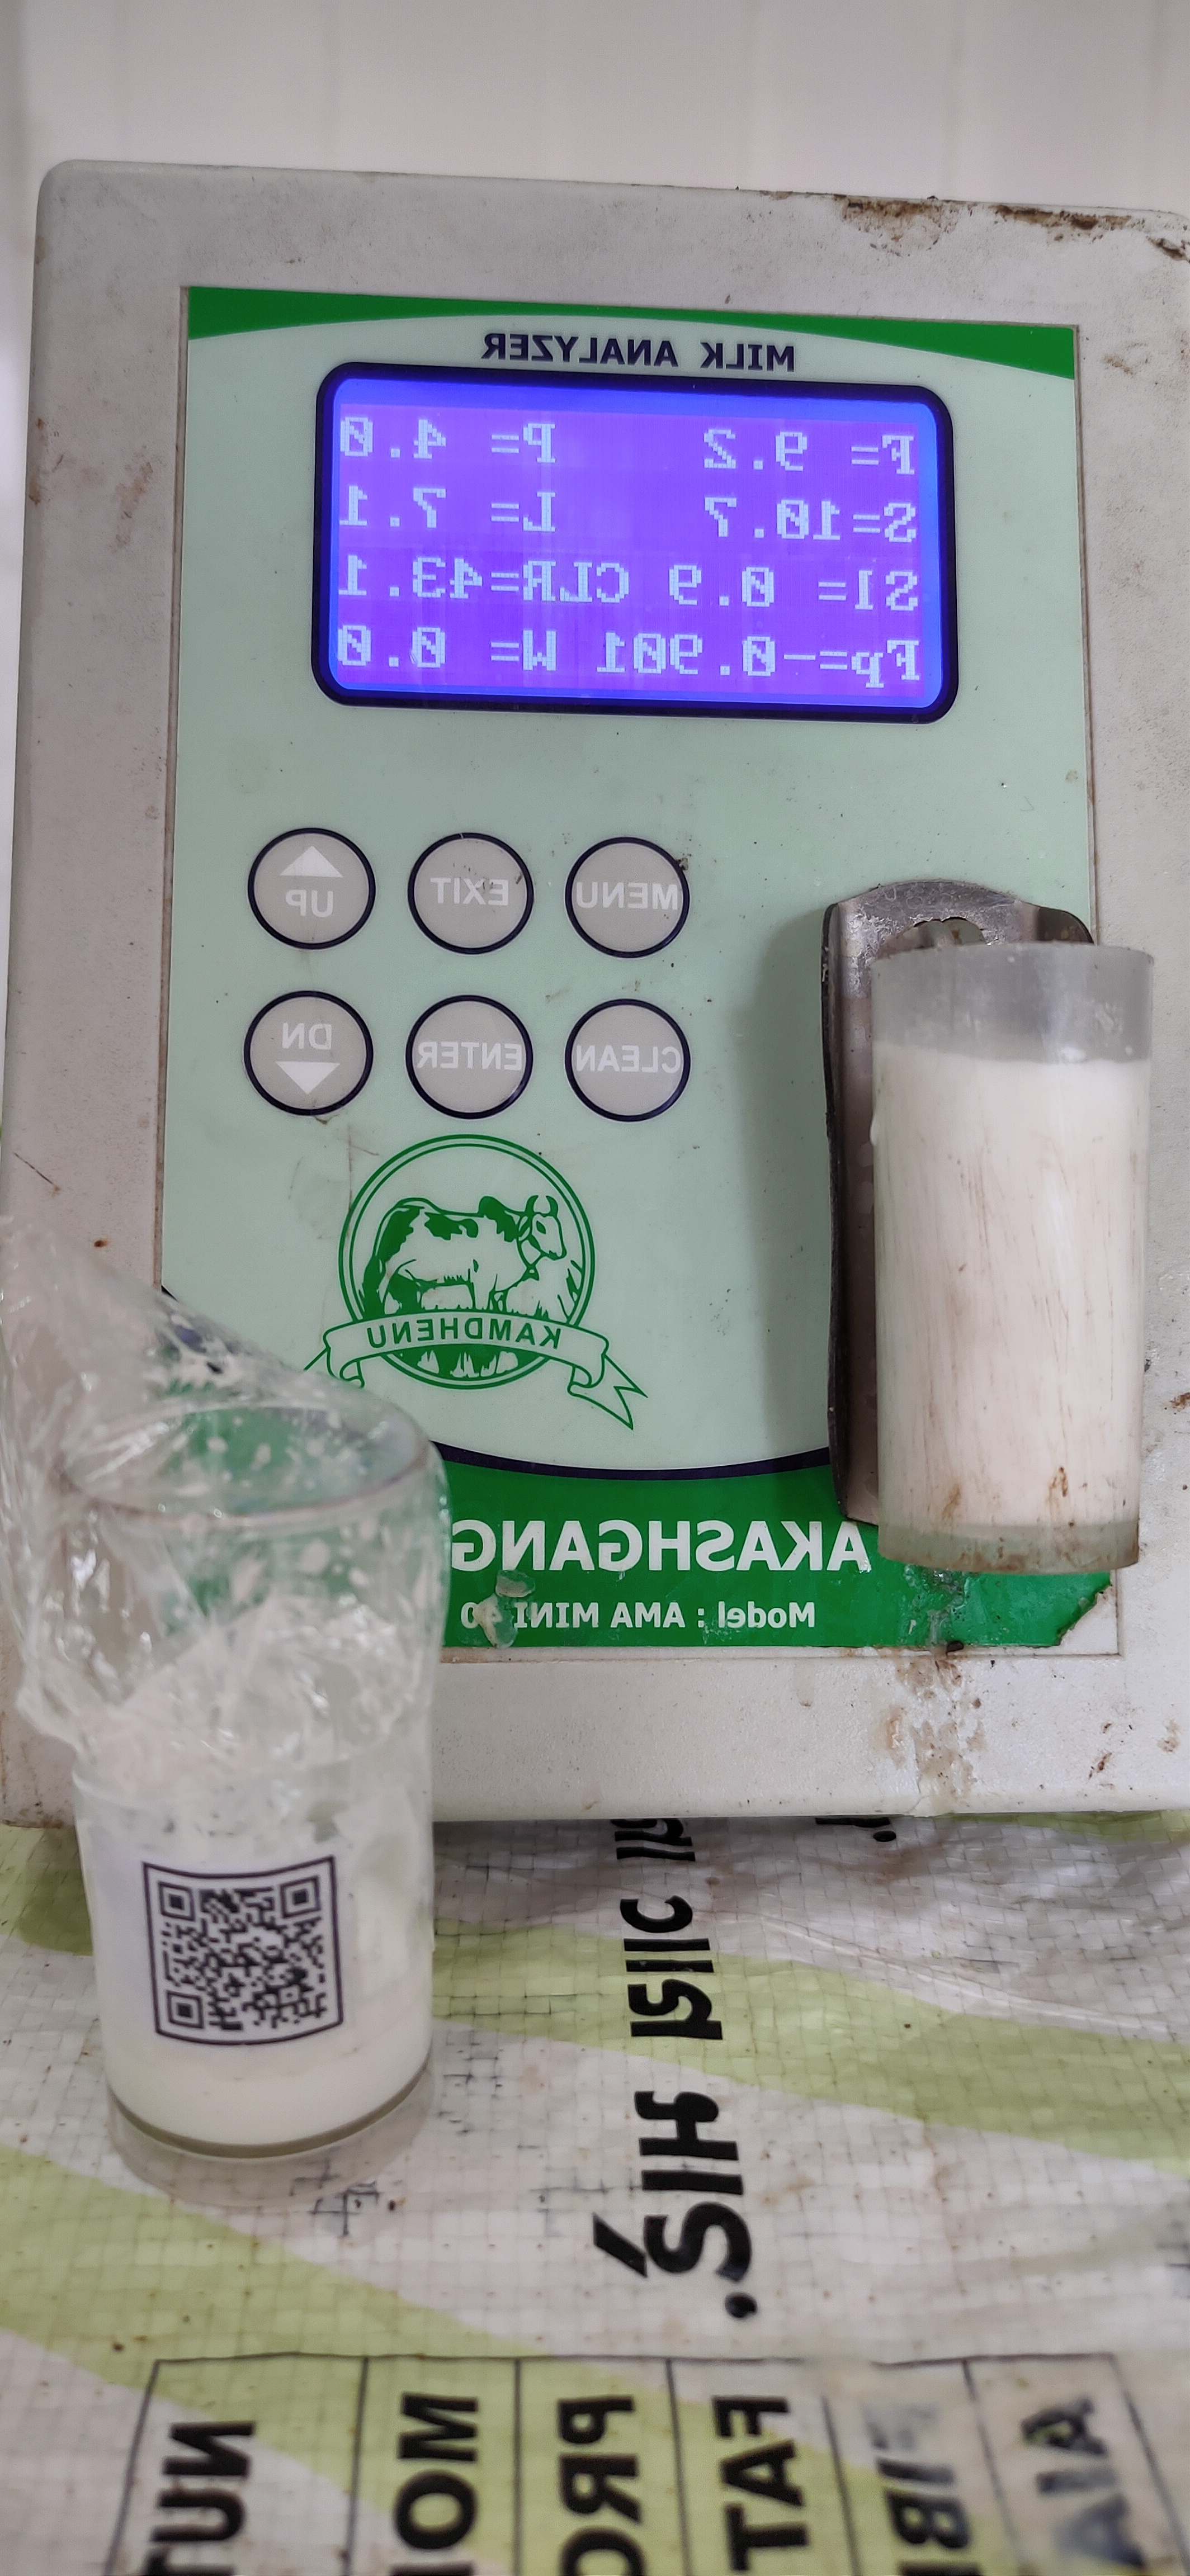lcd: (306, 357, 965, 741)
qr: (138, 1847, 353, 2050)
